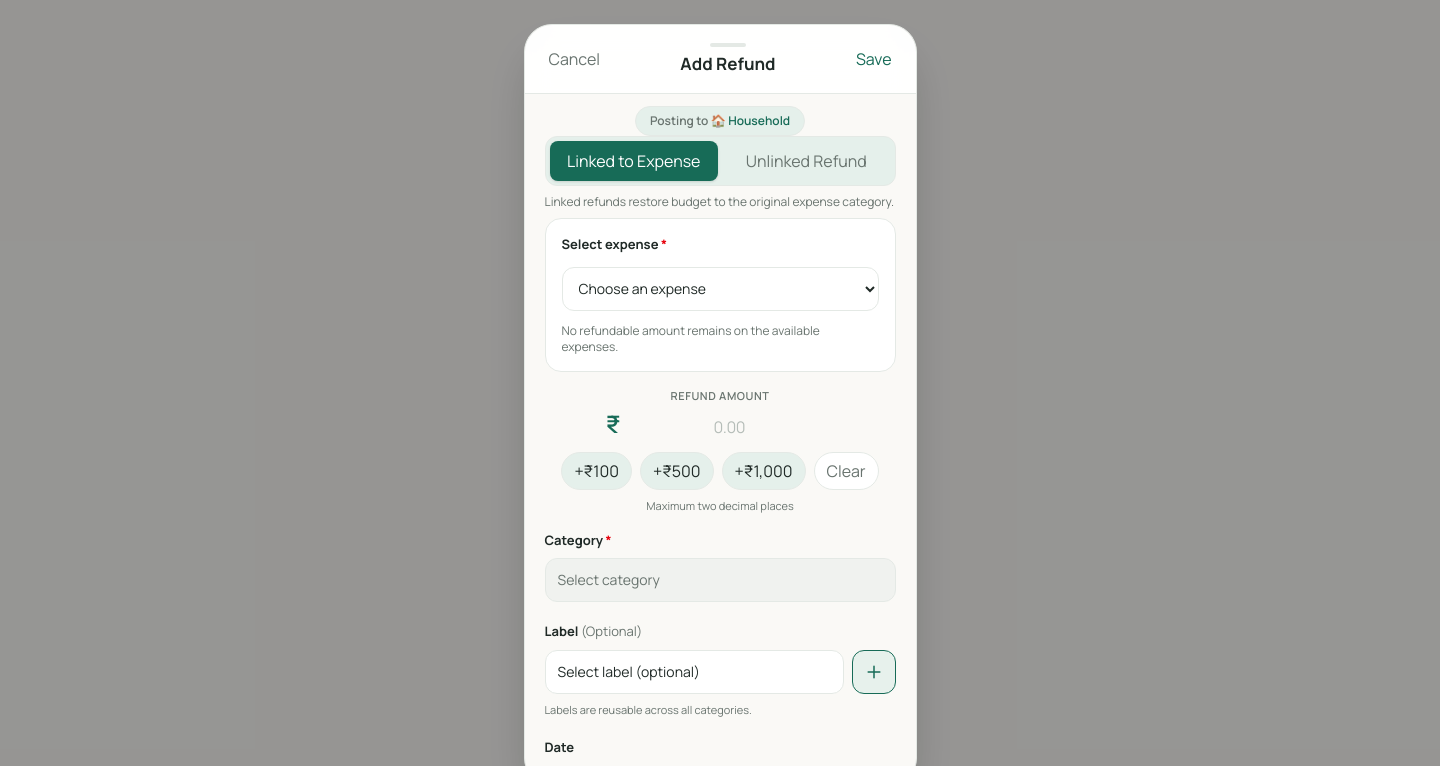
Scenario: AddRefundSheet › rejects linked amounts above the remaining refundable amount
The image size is (1440, 766).
Step 1. Select "Running shoes · Remaining ₹75.00" in the dropdown labelled "Select expense *" → (720, 289), box [562,267,878,311]
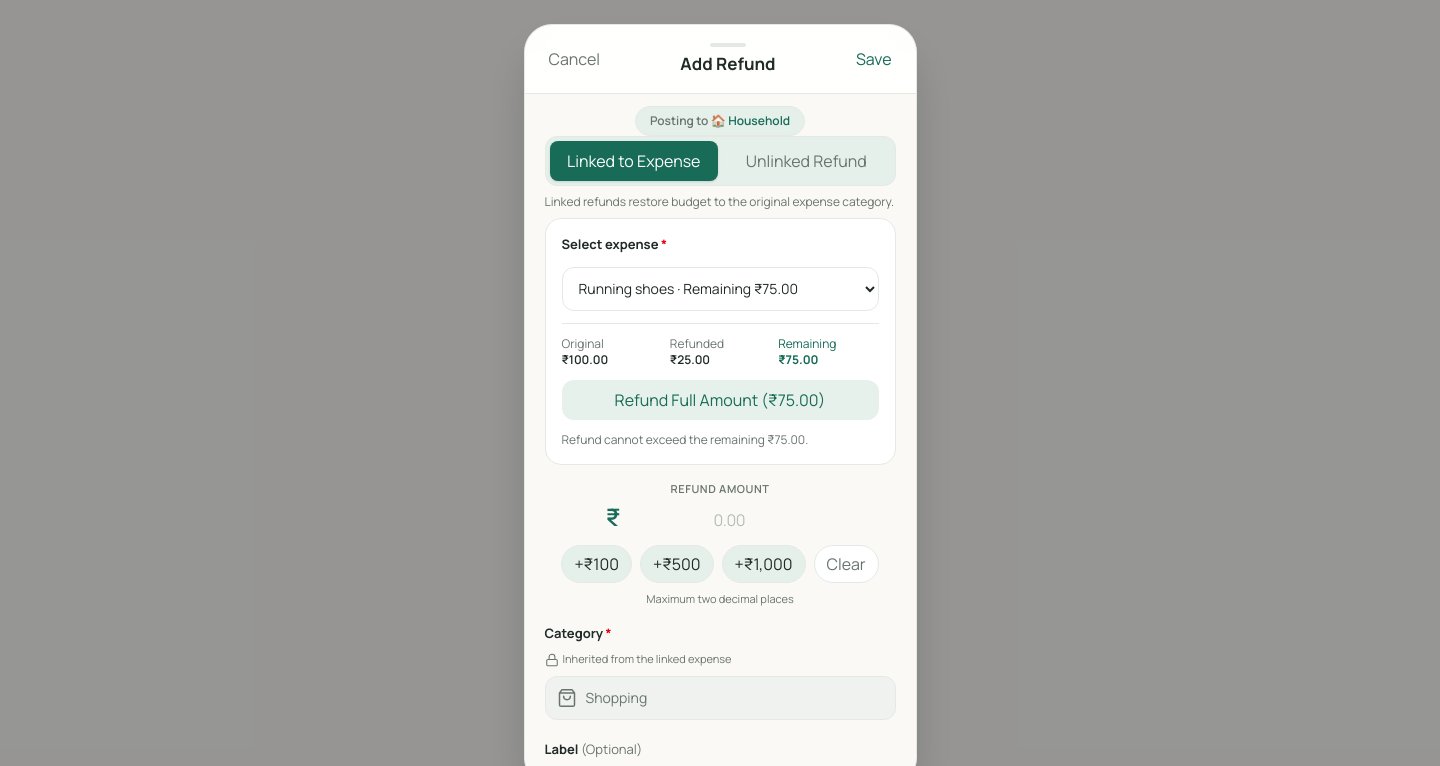
Step 2. Type "75.01" into the field labelled "Amount" → (729, 520), box [624,508,834,532]
(page scrolled)
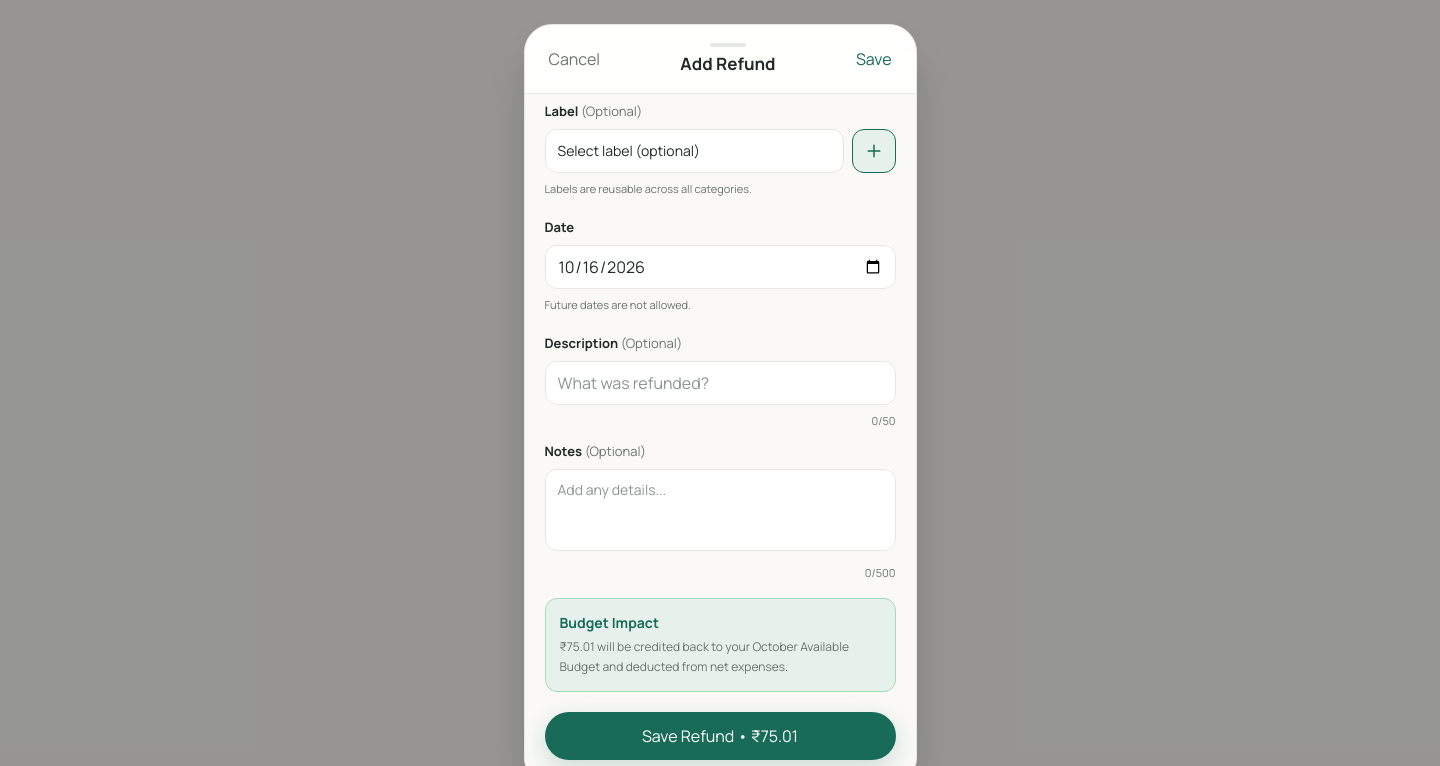
Step 3. Click the button "Save Refund • ₹75.01" → (720, 736), box [544,712,896,760]
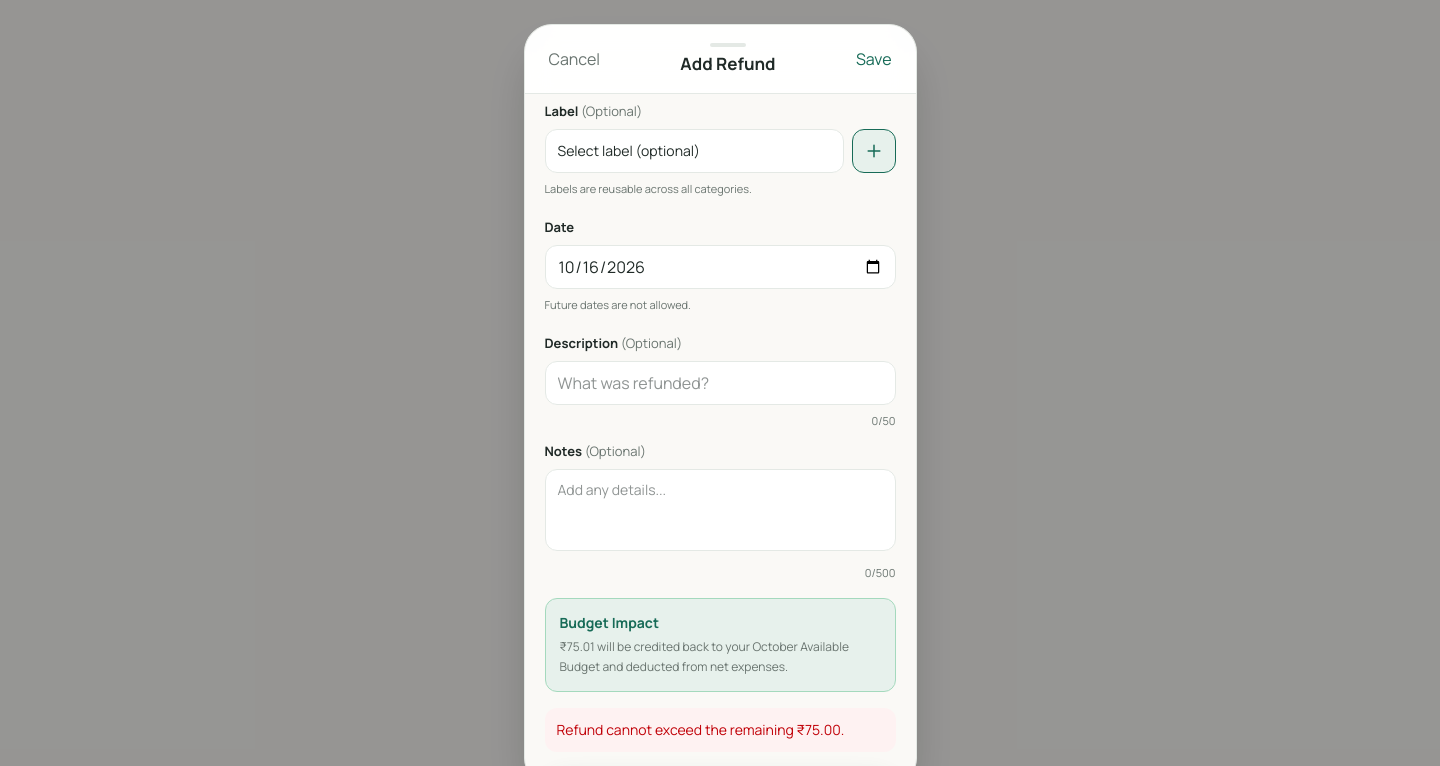
Expected: the message shows "Refund cannot exceed the remaining", [556,720,844,739]
